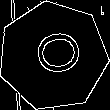O_W: (25, 31, 81, 81)
